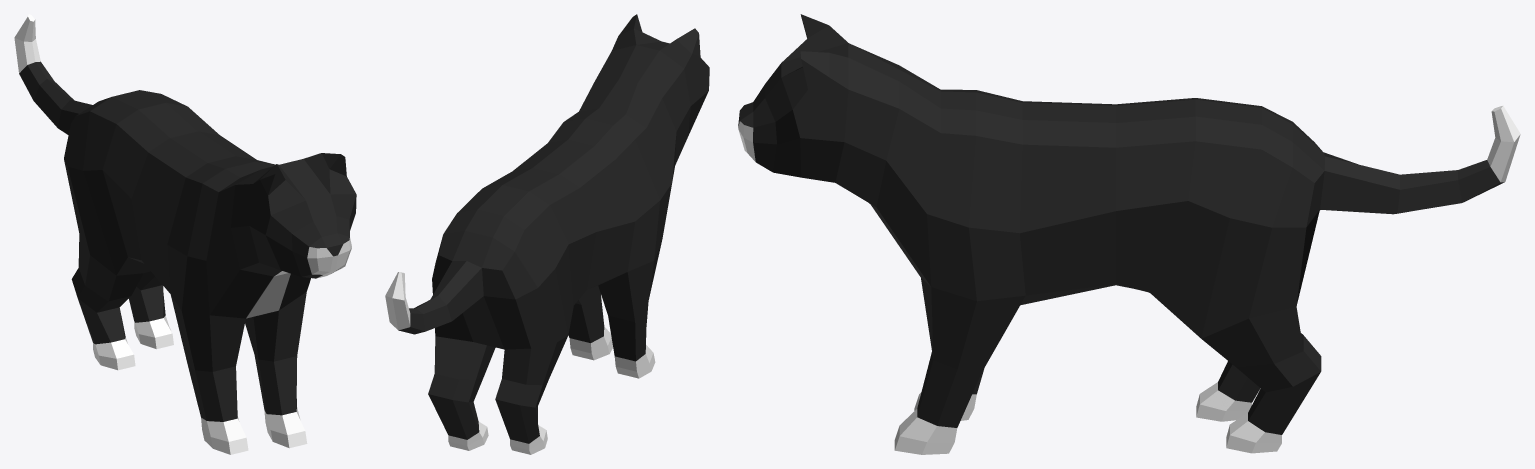
Rendered from house_2_cat.FBX.
The picture shows the model from 3 angles, left to right: view 1: azimuth 30°, elevation 25°; view 2: azimuth 150°, elevation 25°; view 3: azimuth 270°, elevation 25°; orthographic projection. The views are drawn at different scales.
Parts seen in each view (by area): view 1: cat; view 2: cat; view 3: cat.
Boxes of the visible parts, left/top/right/bottom form: cat: left=14, top=14, right=356, bottom=454; cat: left=385, top=14, right=709, bottom=454; cat: left=738, top=14, right=1520, bottom=454.
Bounding box in the file's own units: 28.61 × 74.34 × 133.
